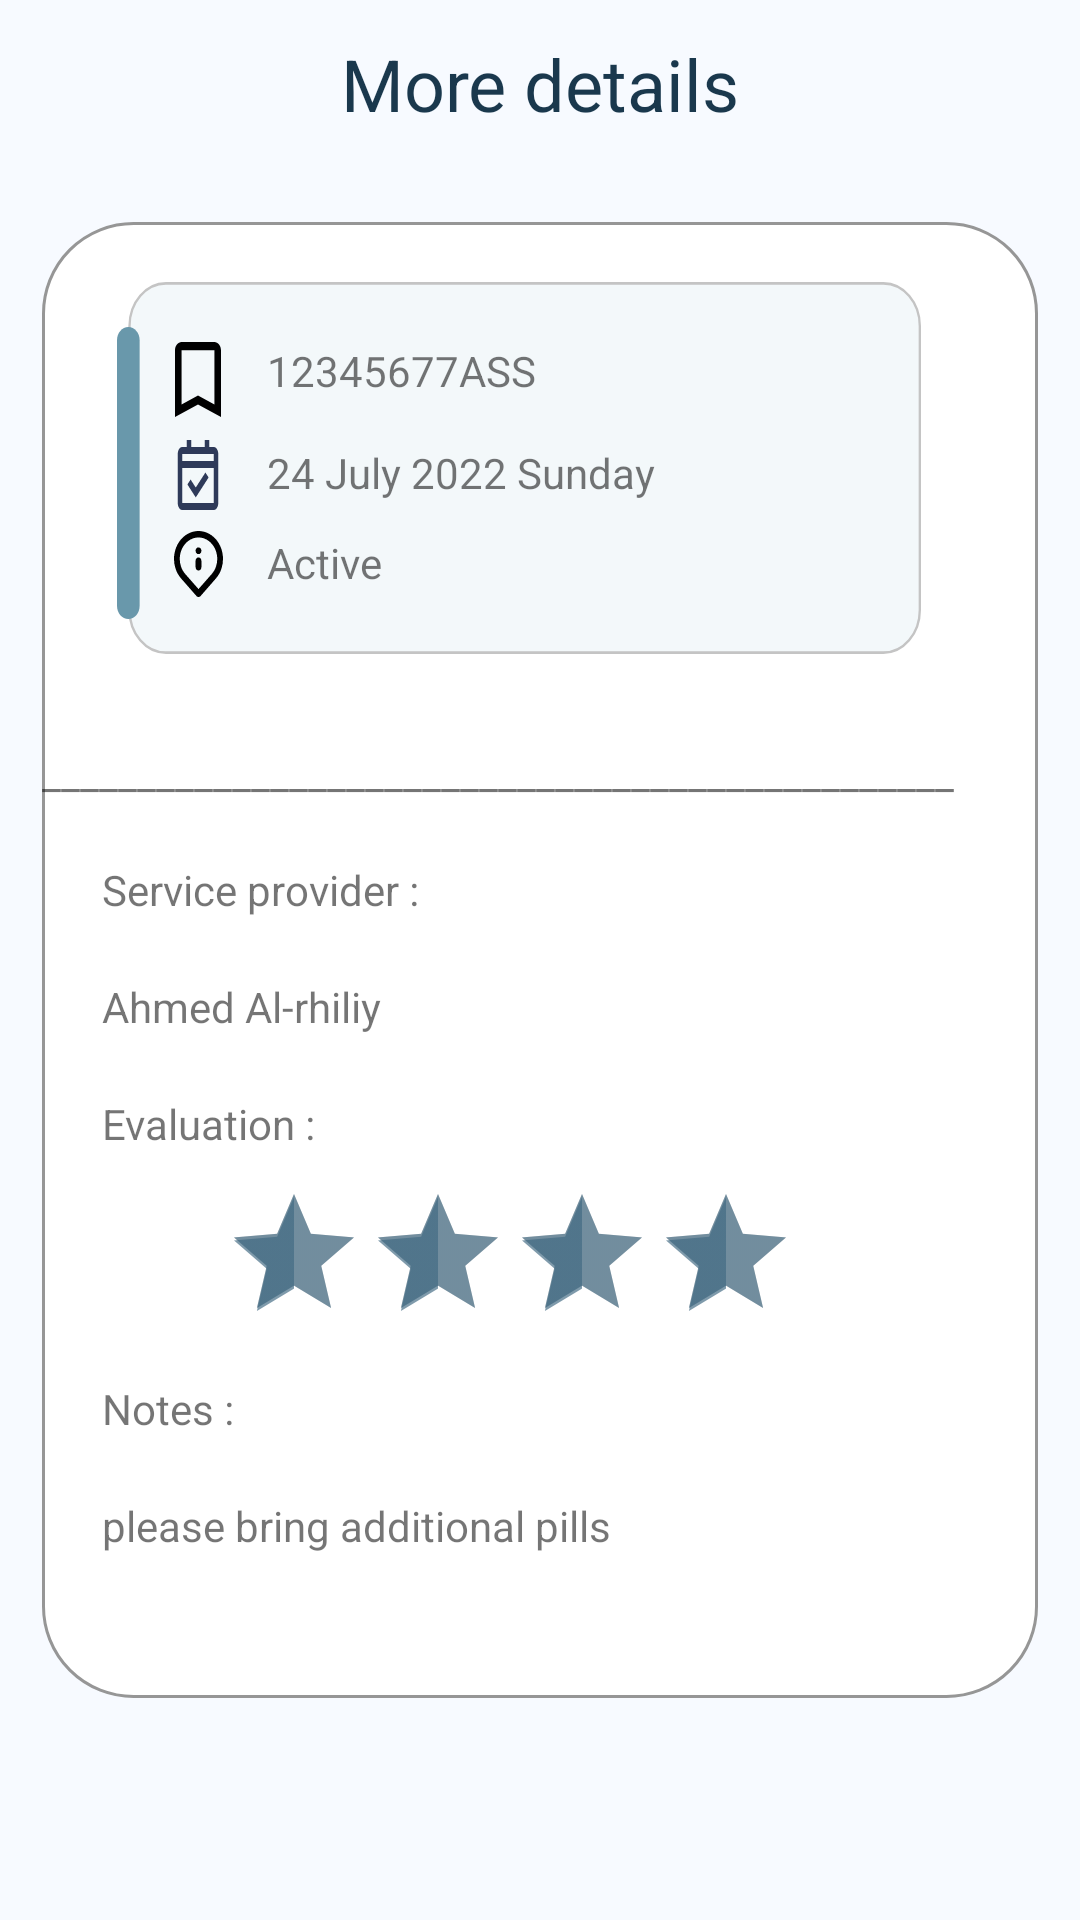

Locate icon controls on the screen. Image size 1080px×1920px, boxes as (x1, y1, x2, y2).
calendarcale: (177, 440, 219, 510)
